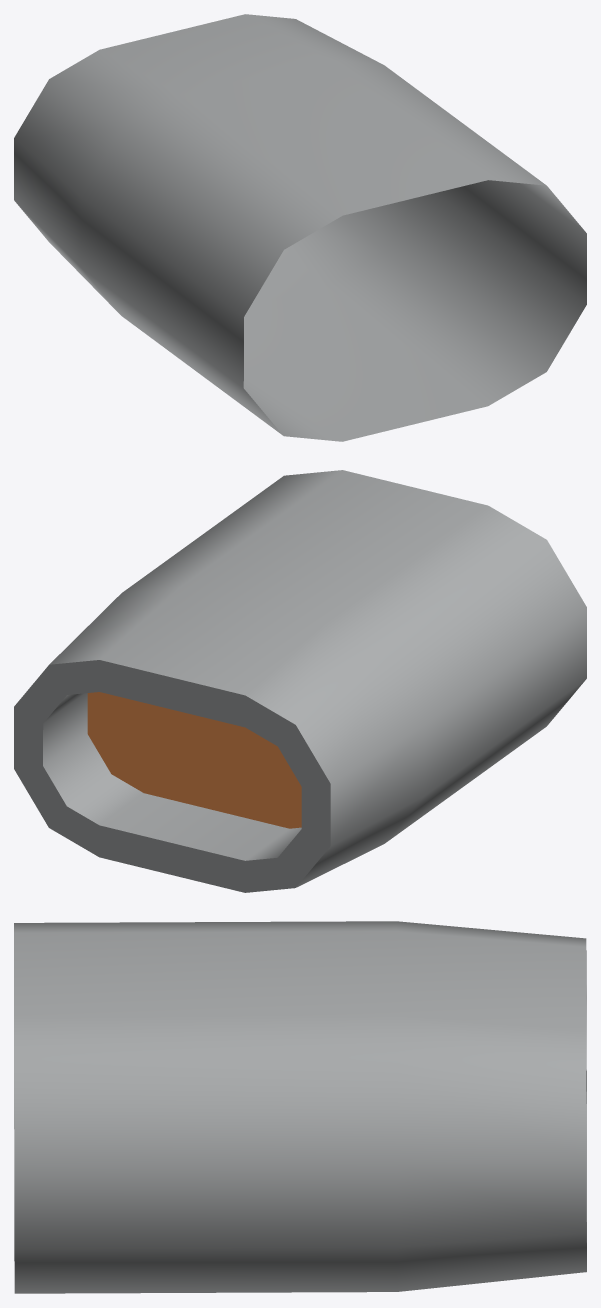
Rendered from Car_14_Pipe_Simple.fbx.
The picture shows the model from 3 angles, top to bottom: view 1: azimuth 30°, elevation 25°; view 2: azimuth 150°, elevation 25°; view 3: azimuth 270°, elevation 25°; orthographic projection. The views are drawn at different scales.
Parts seen in each view (by area): view 1: Car_14_Pipe_Simple; view 2: Car_14_Pipe_Simple; view 3: Car_14_Pipe_Simple.
Part boxes in pixels (x1=…): Car_14_Pipe_Simple: x1=14, y1=14, x2=586, y2=441; Car_14_Pipe_Simple: x1=14, y1=470, x2=586, y2=892; Car_14_Pipe_Simple: x1=14, y1=921, x2=586, y2=1293.
Size of the model in its own units: 45.08 by 55.38 by 28.61.
